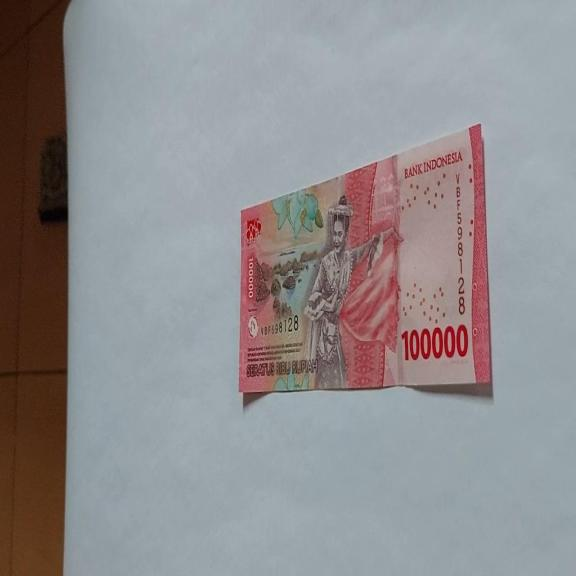Kertas: (400, 322, 469, 362)
